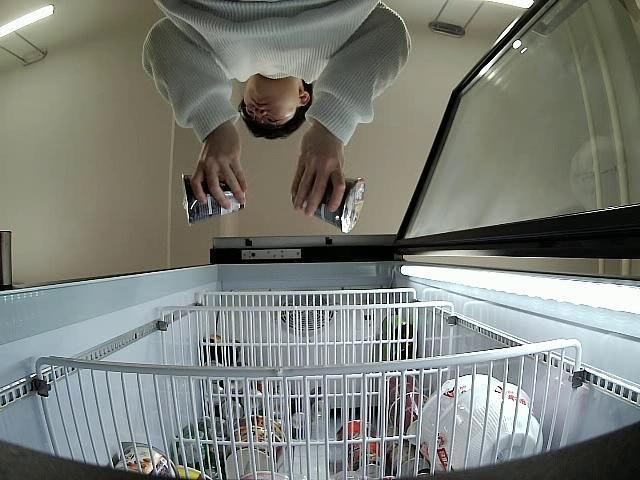08_buldak_S: (292, 172, 366, 233), (179, 171, 247, 225)
